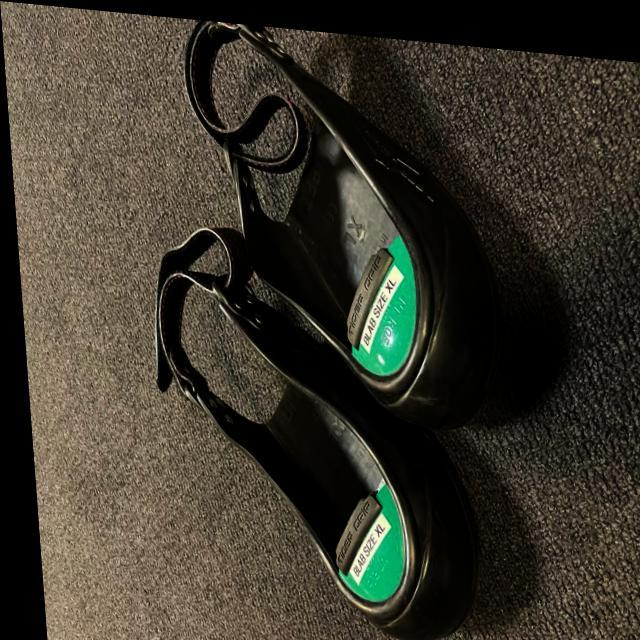shoes: (167, 15, 499, 429), (133, 239, 471, 640)
